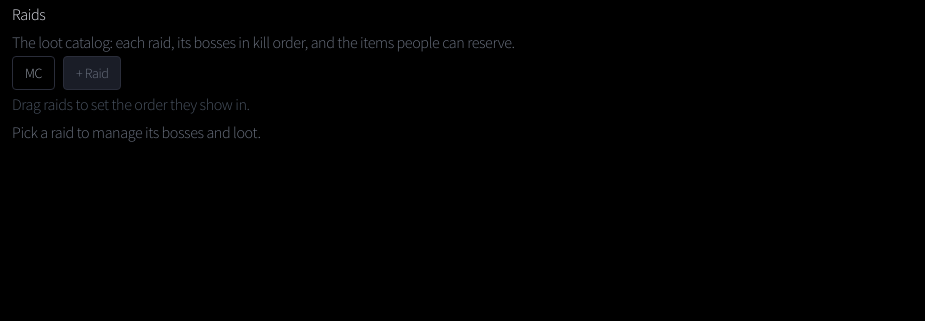
Items on many bosses › creates an item for several bosses and marks it hard reserved
Later steps or results of the test are not shown.
Click the button "MC": (34,73) [12,56,55,90]
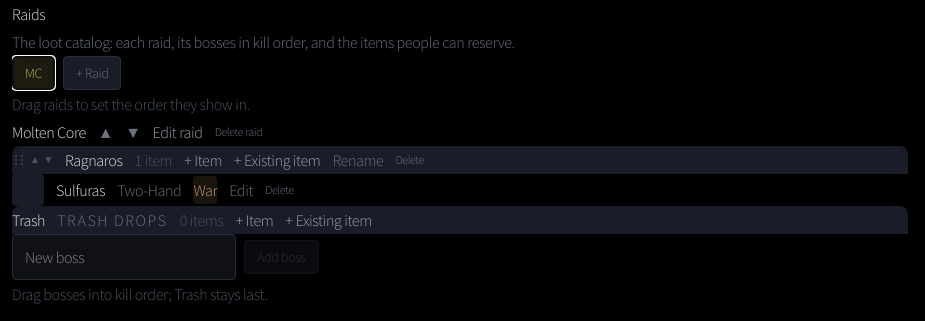
Now the text "Sulfuras" is shown, box [56,176,105,204]
